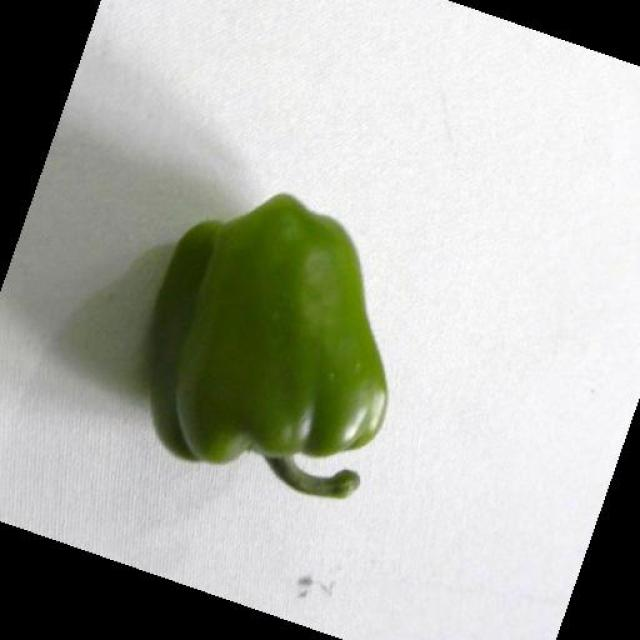Fresh_Capsicum: (120, 214, 390, 461)
